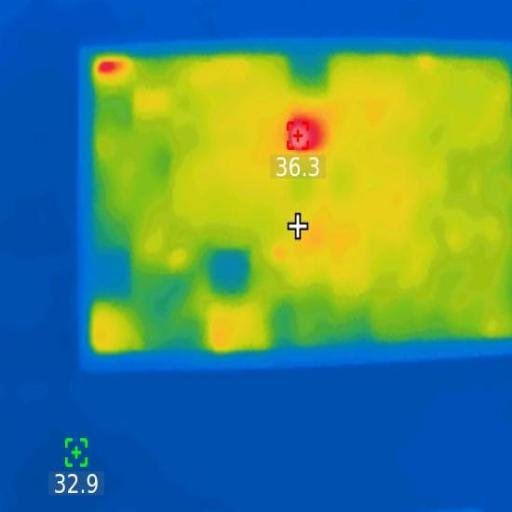hotspot: (287, 120, 326, 152), (96, 60, 130, 73)
